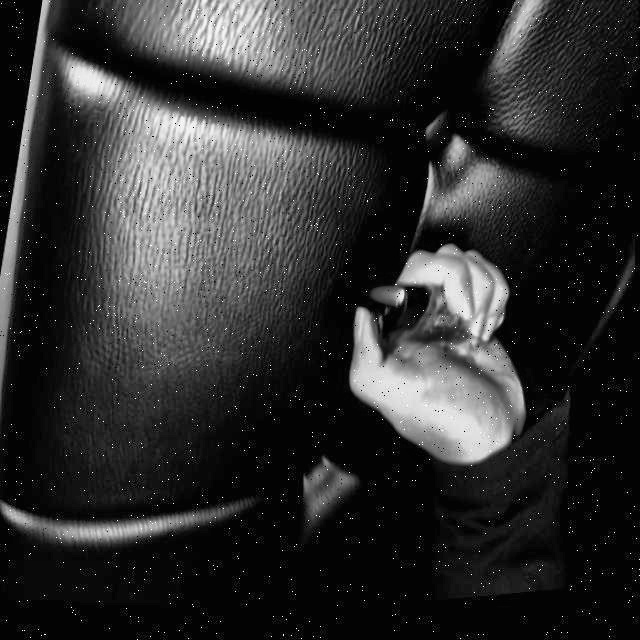Fire: (359, 288, 408, 319)
